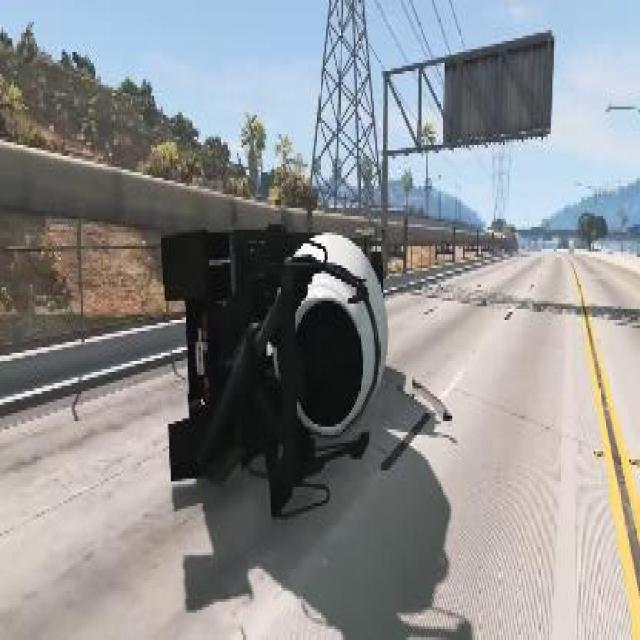accident: (151, 197, 391, 522)
